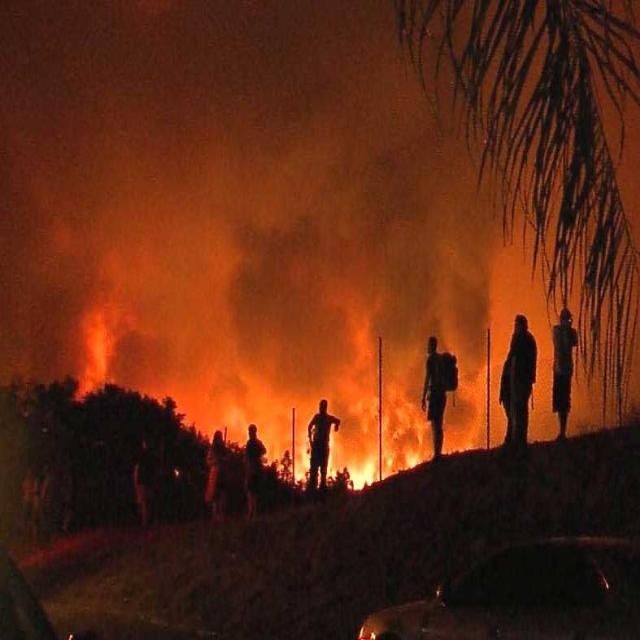Fire: (80, 306, 117, 402), (280, 443, 324, 492), (385, 433, 424, 480), (344, 459, 377, 497)
Smoke: (0, 0, 512, 345)
